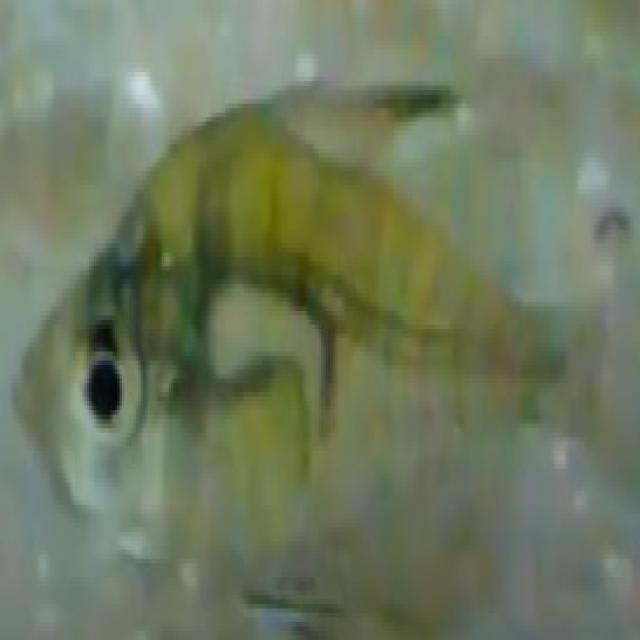Glass-Perchlet: (0, 45, 633, 640)
